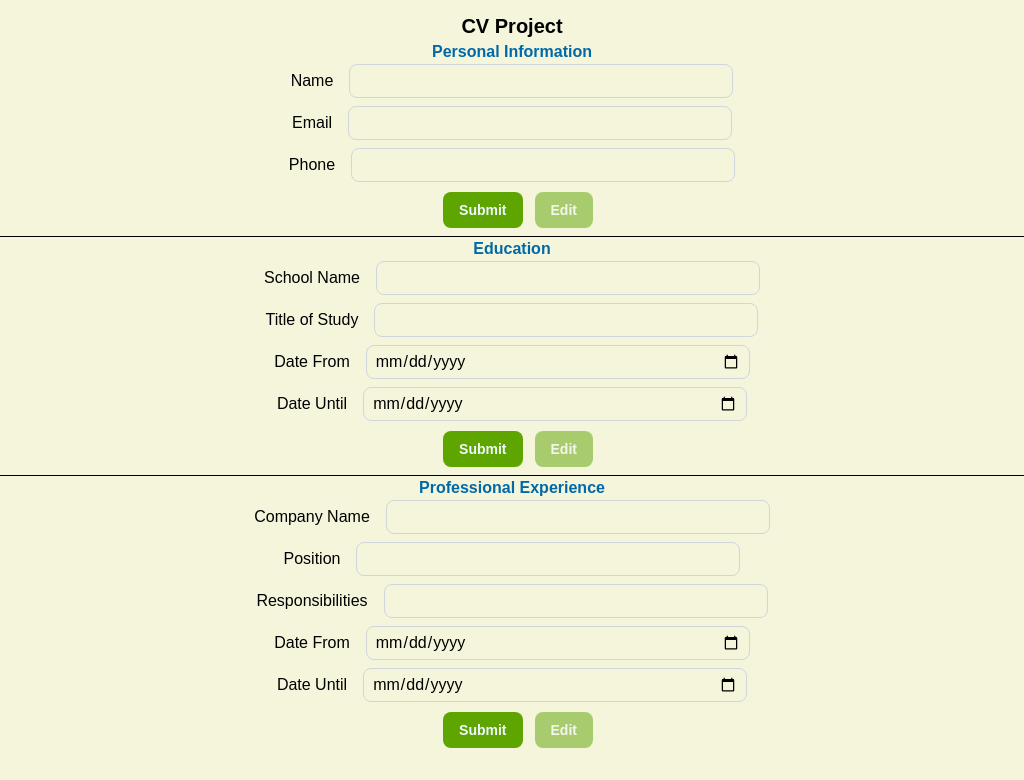
Test: App › renders Personal Information field inputs
Type "Mert" into the field labelled "Name". click: [541, 81]
box: 349,64 -> 733,98
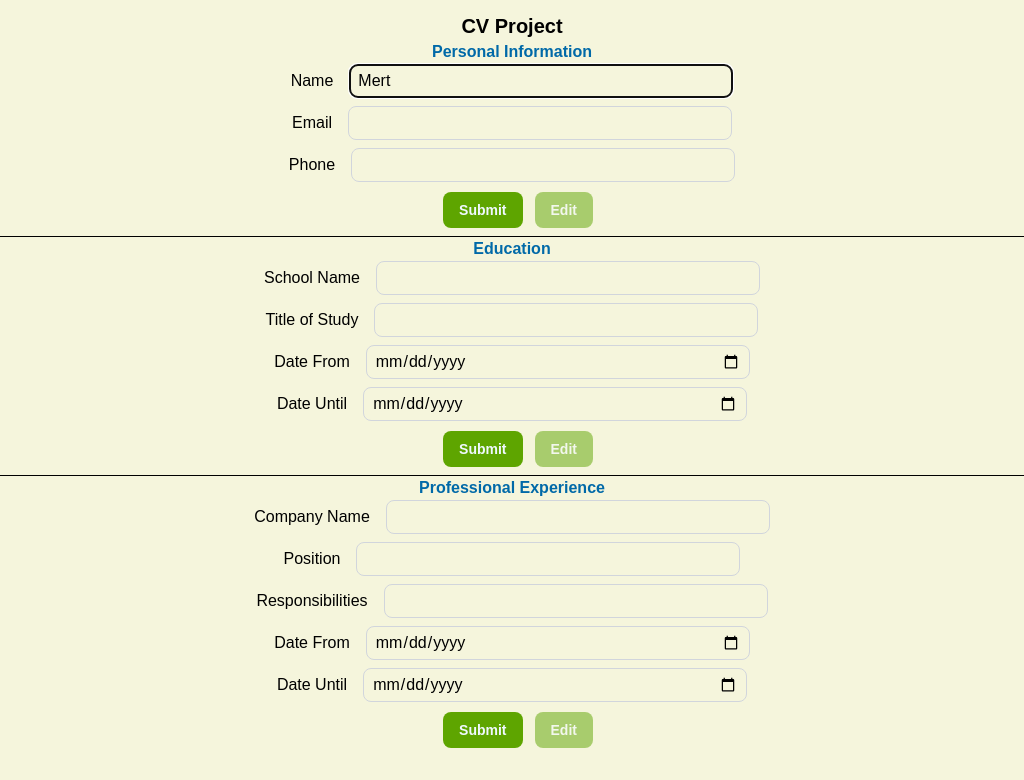
Type "mert@testmail.com" into the field labelled "Email". click: [540, 123]
box: 348,106 -> 732,140
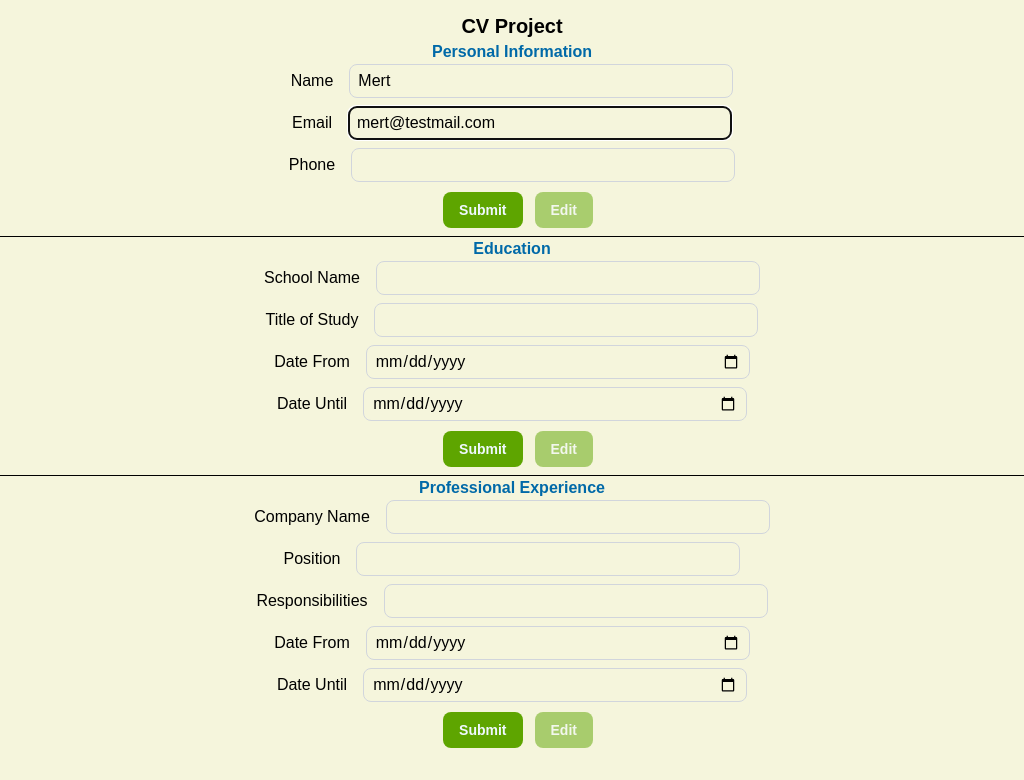
Type "+49 000 000 00 00" into the field labelled "Phone". click: [543, 165]
box: 351,148 -> 735,182
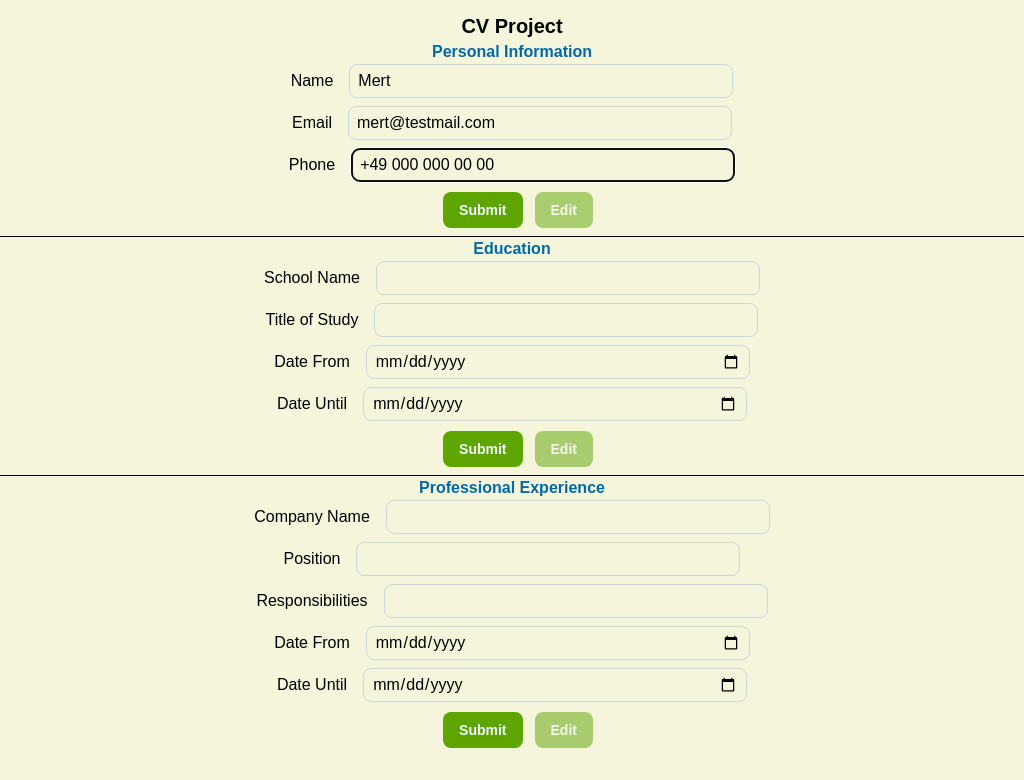
Click the button "Submit" below "Phone". click: [483, 210]
box: 443,192 -> 522,228
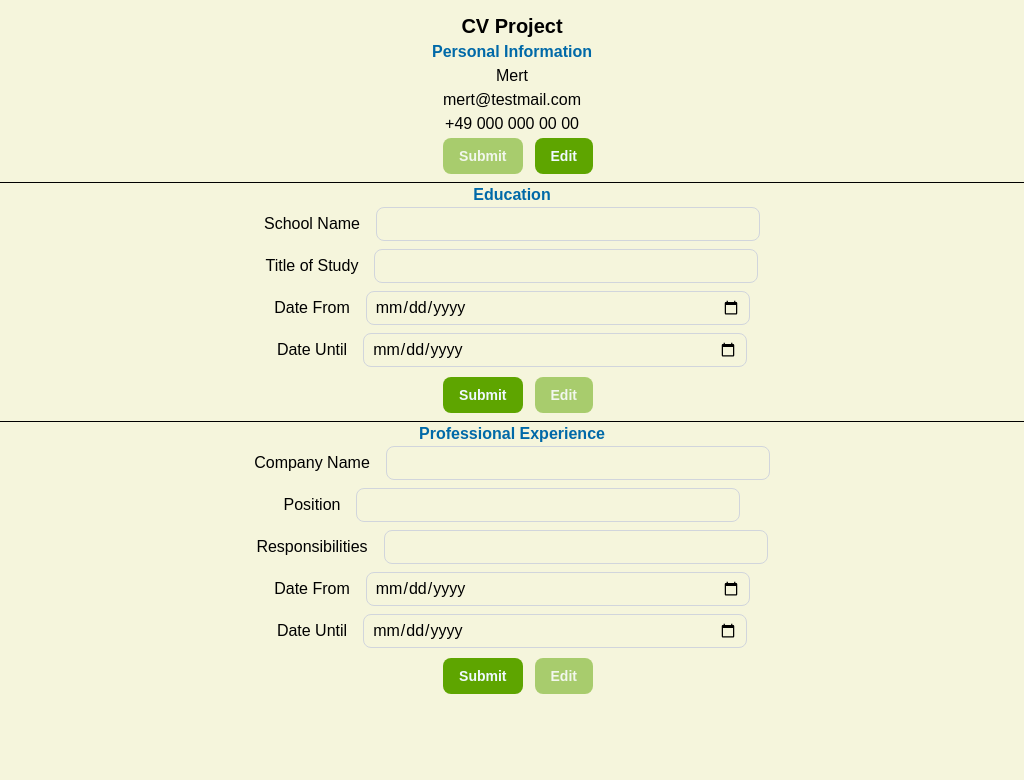
Check: the text "Mert" is shown, box 496,64 -> 528,88
Check: the text "mert@testmail.com" is shown, box 443,88 -> 581,112
Check: the text "+49 000 000 00 00" is shown, box 445,112 -> 579,136
